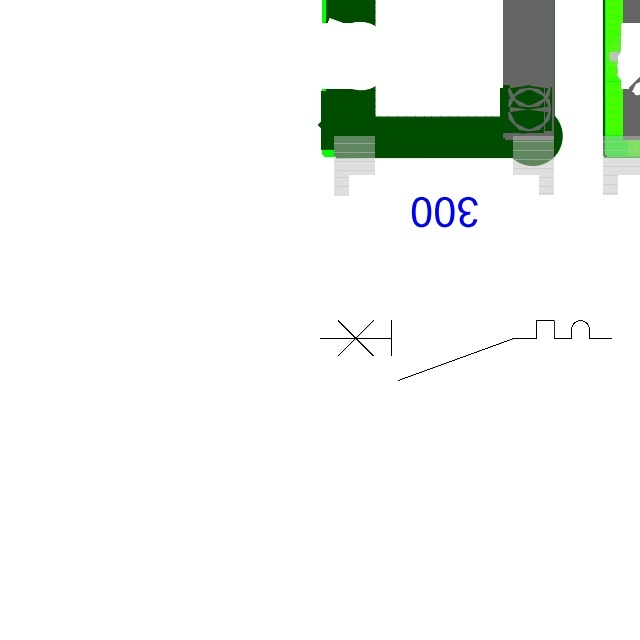interruptor_termomagnetico: (313, 313, 619, 388)
